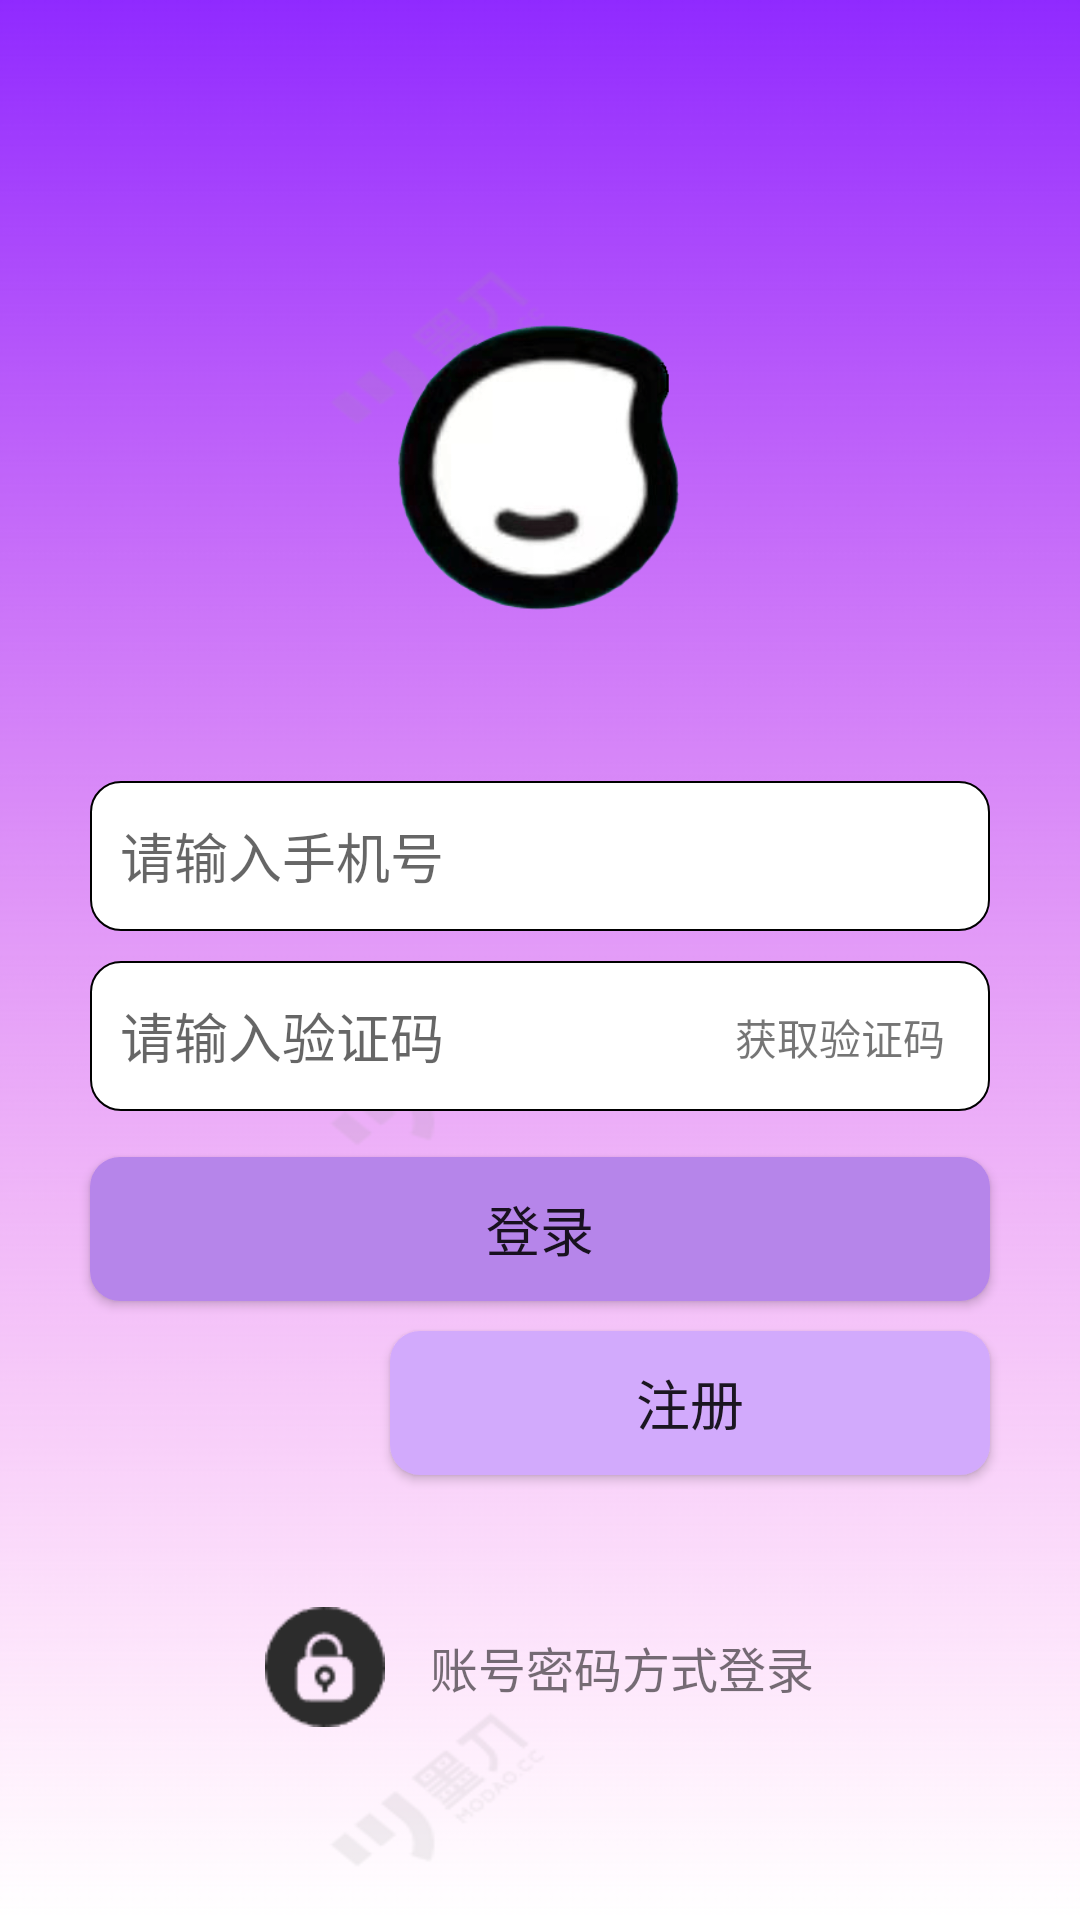

Screen size 1080 x 1920. Icon name, then its box in pixels as (x1, y1, x2, y2):
imguserpwd: (265, 1607, 385, 1727)
